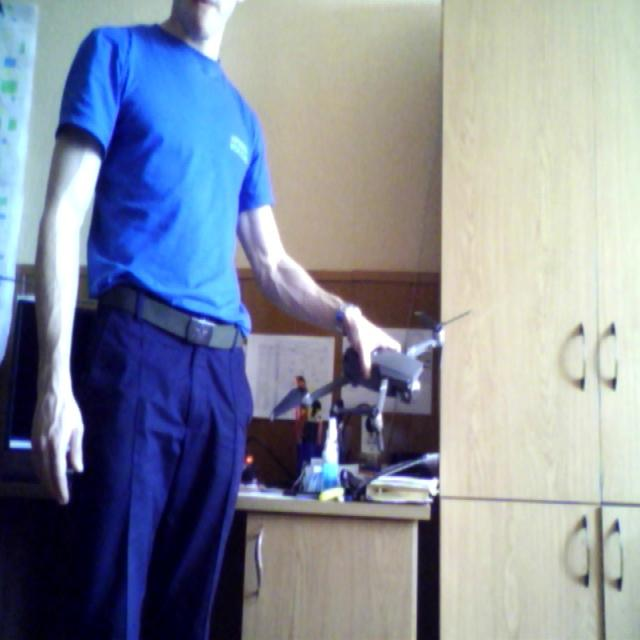drone: (272, 296, 475, 427)
